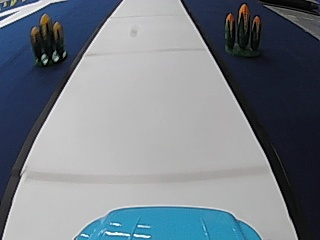corn: (222, 4, 265, 59), (26, 15, 69, 66)
